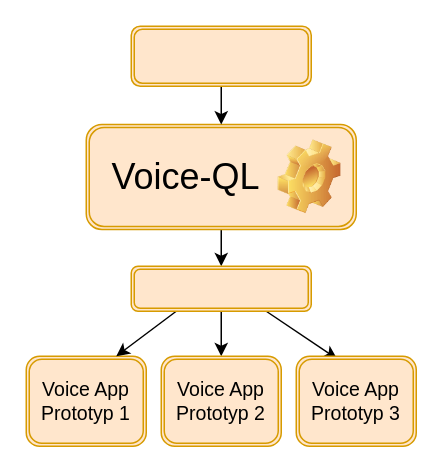
Image size: 443x473. Some labels were removed from this diagram. The centre of each missing label's shape, as x and y in pixels:
"Jovo Framework" belongs at (220,288).
"Tabelle" belongs at (220,55).
